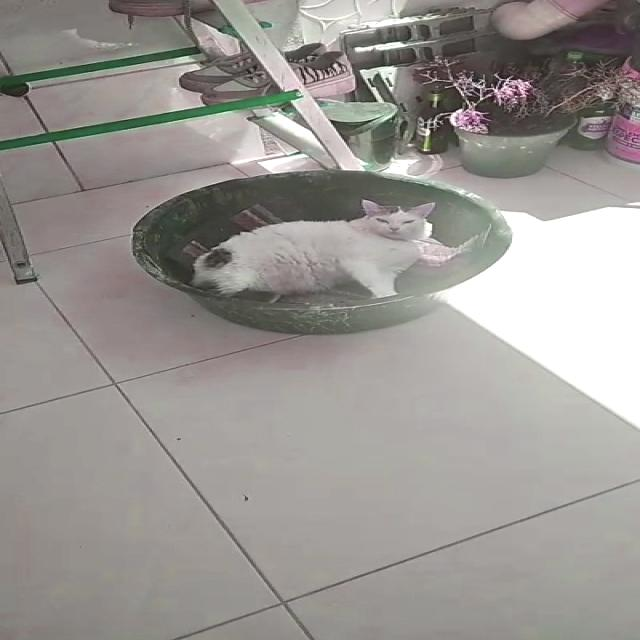Simba: (168, 198, 492, 304)
